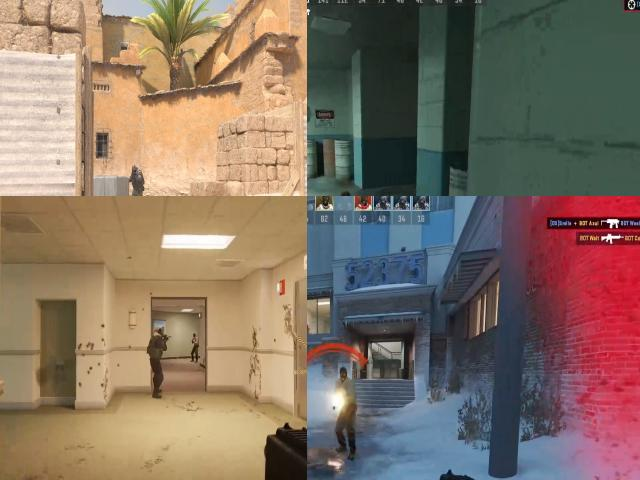CT: (149, 326, 167, 384), (130, 165, 144, 196)
CT-Head: (155, 326, 166, 340), (132, 165, 137, 173)
T: (332, 370, 359, 418), (188, 330, 200, 360)
T-Head: (337, 364, 350, 384), (190, 332, 198, 342)
